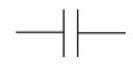Capacitor: (49, 7, 92, 58)
